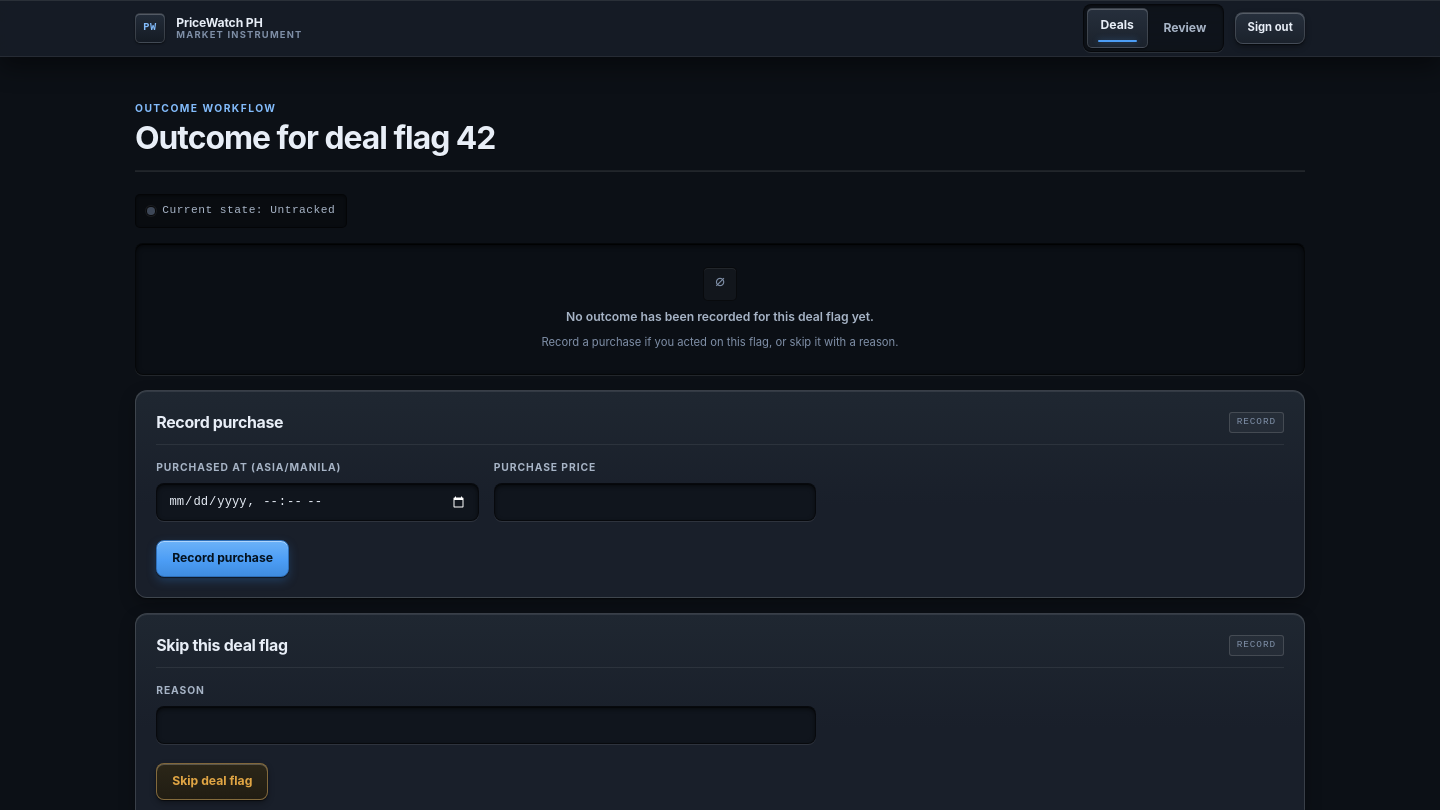
Test: TASK_029 lifecycle transitions › skips an untracked deal flag with CSRF and updates the page from the response
Type "already sold by the time I followed up" into the field labelled "Reason". click: (486, 725)
box: [156, 706, 816, 744]
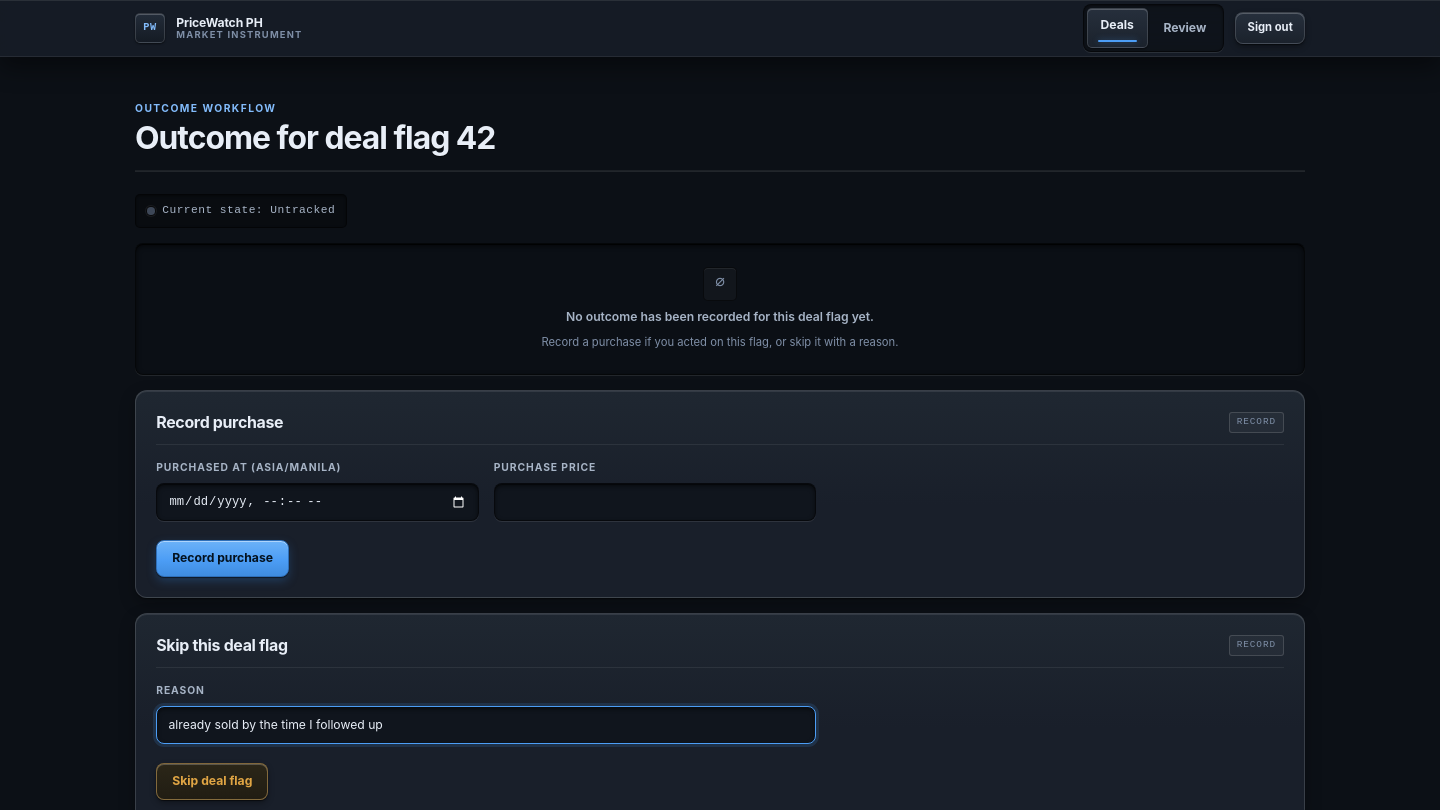
Click the button "Skip deal flag". click: click(212, 781)
box: [156, 763, 268, 800]
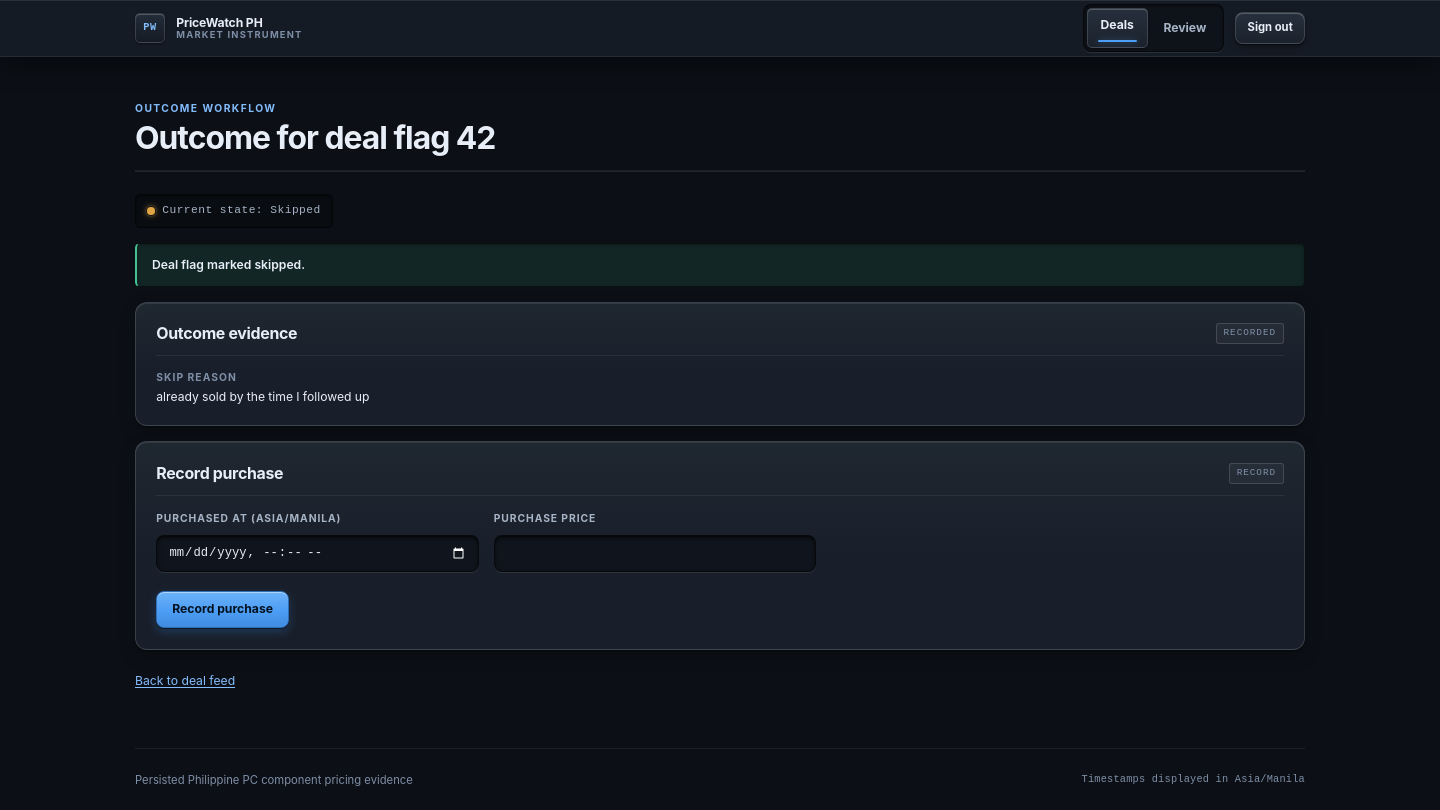
Expected: the text "Deal flag marked skipped." is shown, [135, 243, 1305, 287]
Expected: the text "Current state: Skipped" is shown, [135, 194, 333, 228]
